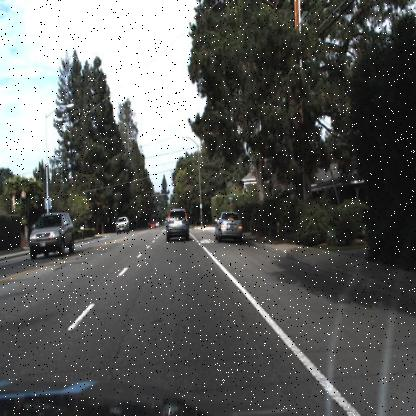car: (29, 212, 76, 261), (160, 202, 193, 251), (212, 208, 243, 247), (112, 208, 130, 240)
